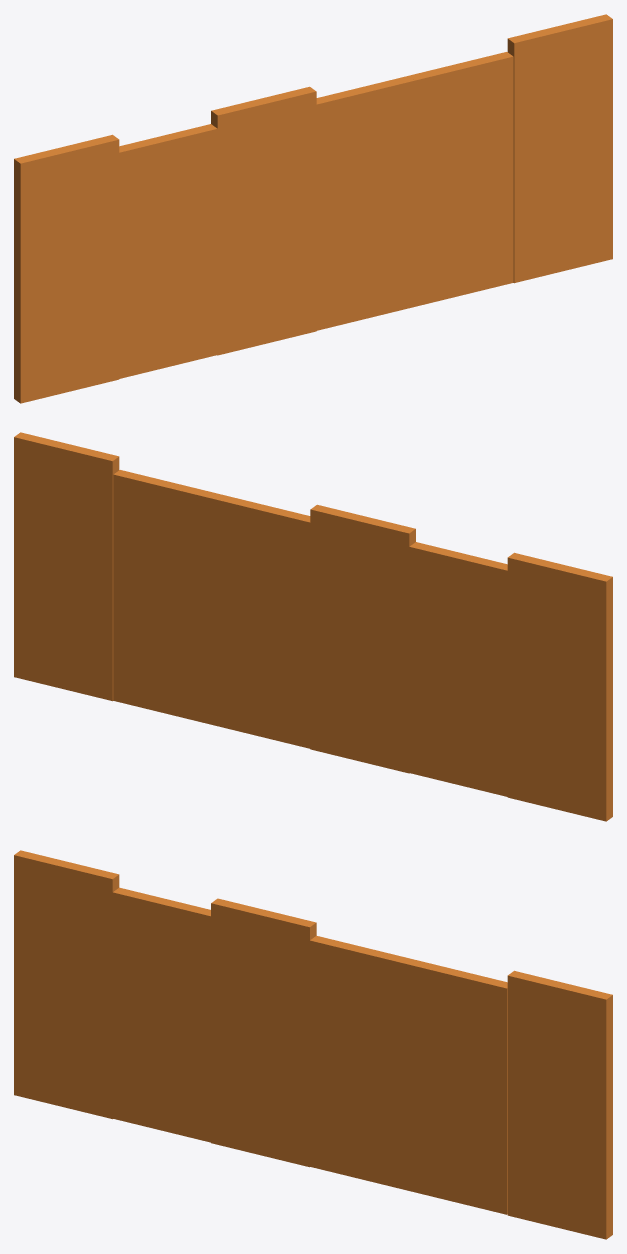
Rendered from Wall.fbx.
The picture shows the model from 3 angles, top to bottom: view 1: azimuth 30°, elevation 25°; view 2: azimuth 150°, elevation 25°; view 3: azimuth 330°, elevation 25°; orthographic projection.
Visible parts, largest first — view 1: Wall; view 2: Wall; view 3: Wall.
Boxes of the visible parts, <box> form: Wall: <box>14,14,612,403</box>; Wall: <box>14,432,612,821</box>; Wall: <box>14,850,612,1239</box>.
Size of the model in its own units: 517 by 200 by 9.95.
